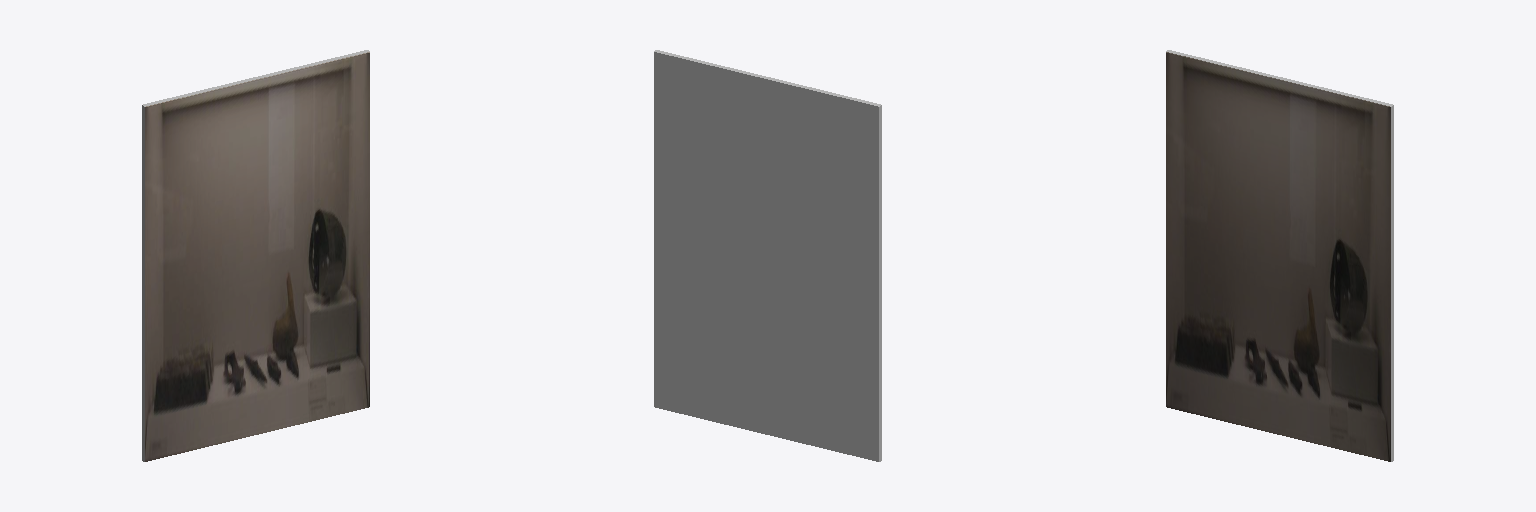
3 renders of one model, left to right at view 1: azimuth 30°, elevation 25°; view 2: azimuth 150°, elevation 25°; view 3: azimuth 330°, elevation 25°, orthographic.
Parts seen in each view (by area): view 1: SketchUp.001_ID10, SketchUp_ID2; view 2: SketchUp_ID2; view 3: SketchUp.001_ID10, SketchUp_ID2.
Part boxes in pixels (x1,y1,x2,y2): SketchUp.001_ID10: (145, 52, 369, 461); SketchUp_ID2: (142, 50, 369, 461); SketchUp_ID2: (654, 50, 881, 461); SketchUp.001_ID10: (1166, 52, 1390, 461); SketchUp_ID2: (1166, 50, 1393, 461).
Bounding box in the file's own units: 188 × 283 × 3.94.
Materials: 2 (1 with a texture image).